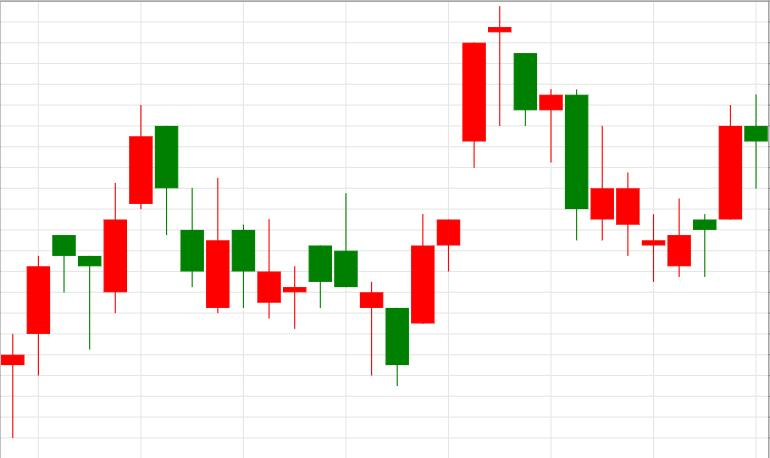evening_star_fall: (386, 6, 537, 385)
inverse_hammer_rise: (513, 53, 691, 282), (156, 126, 281, 318), (514, 52, 614, 241)
